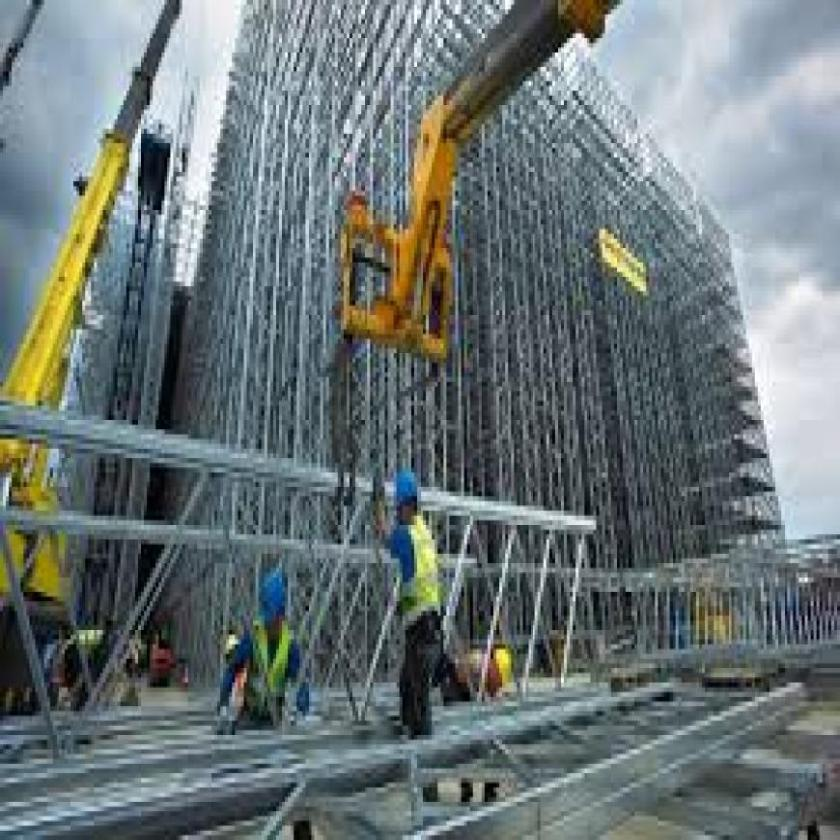Con_casco: (392, 471, 424, 536)
